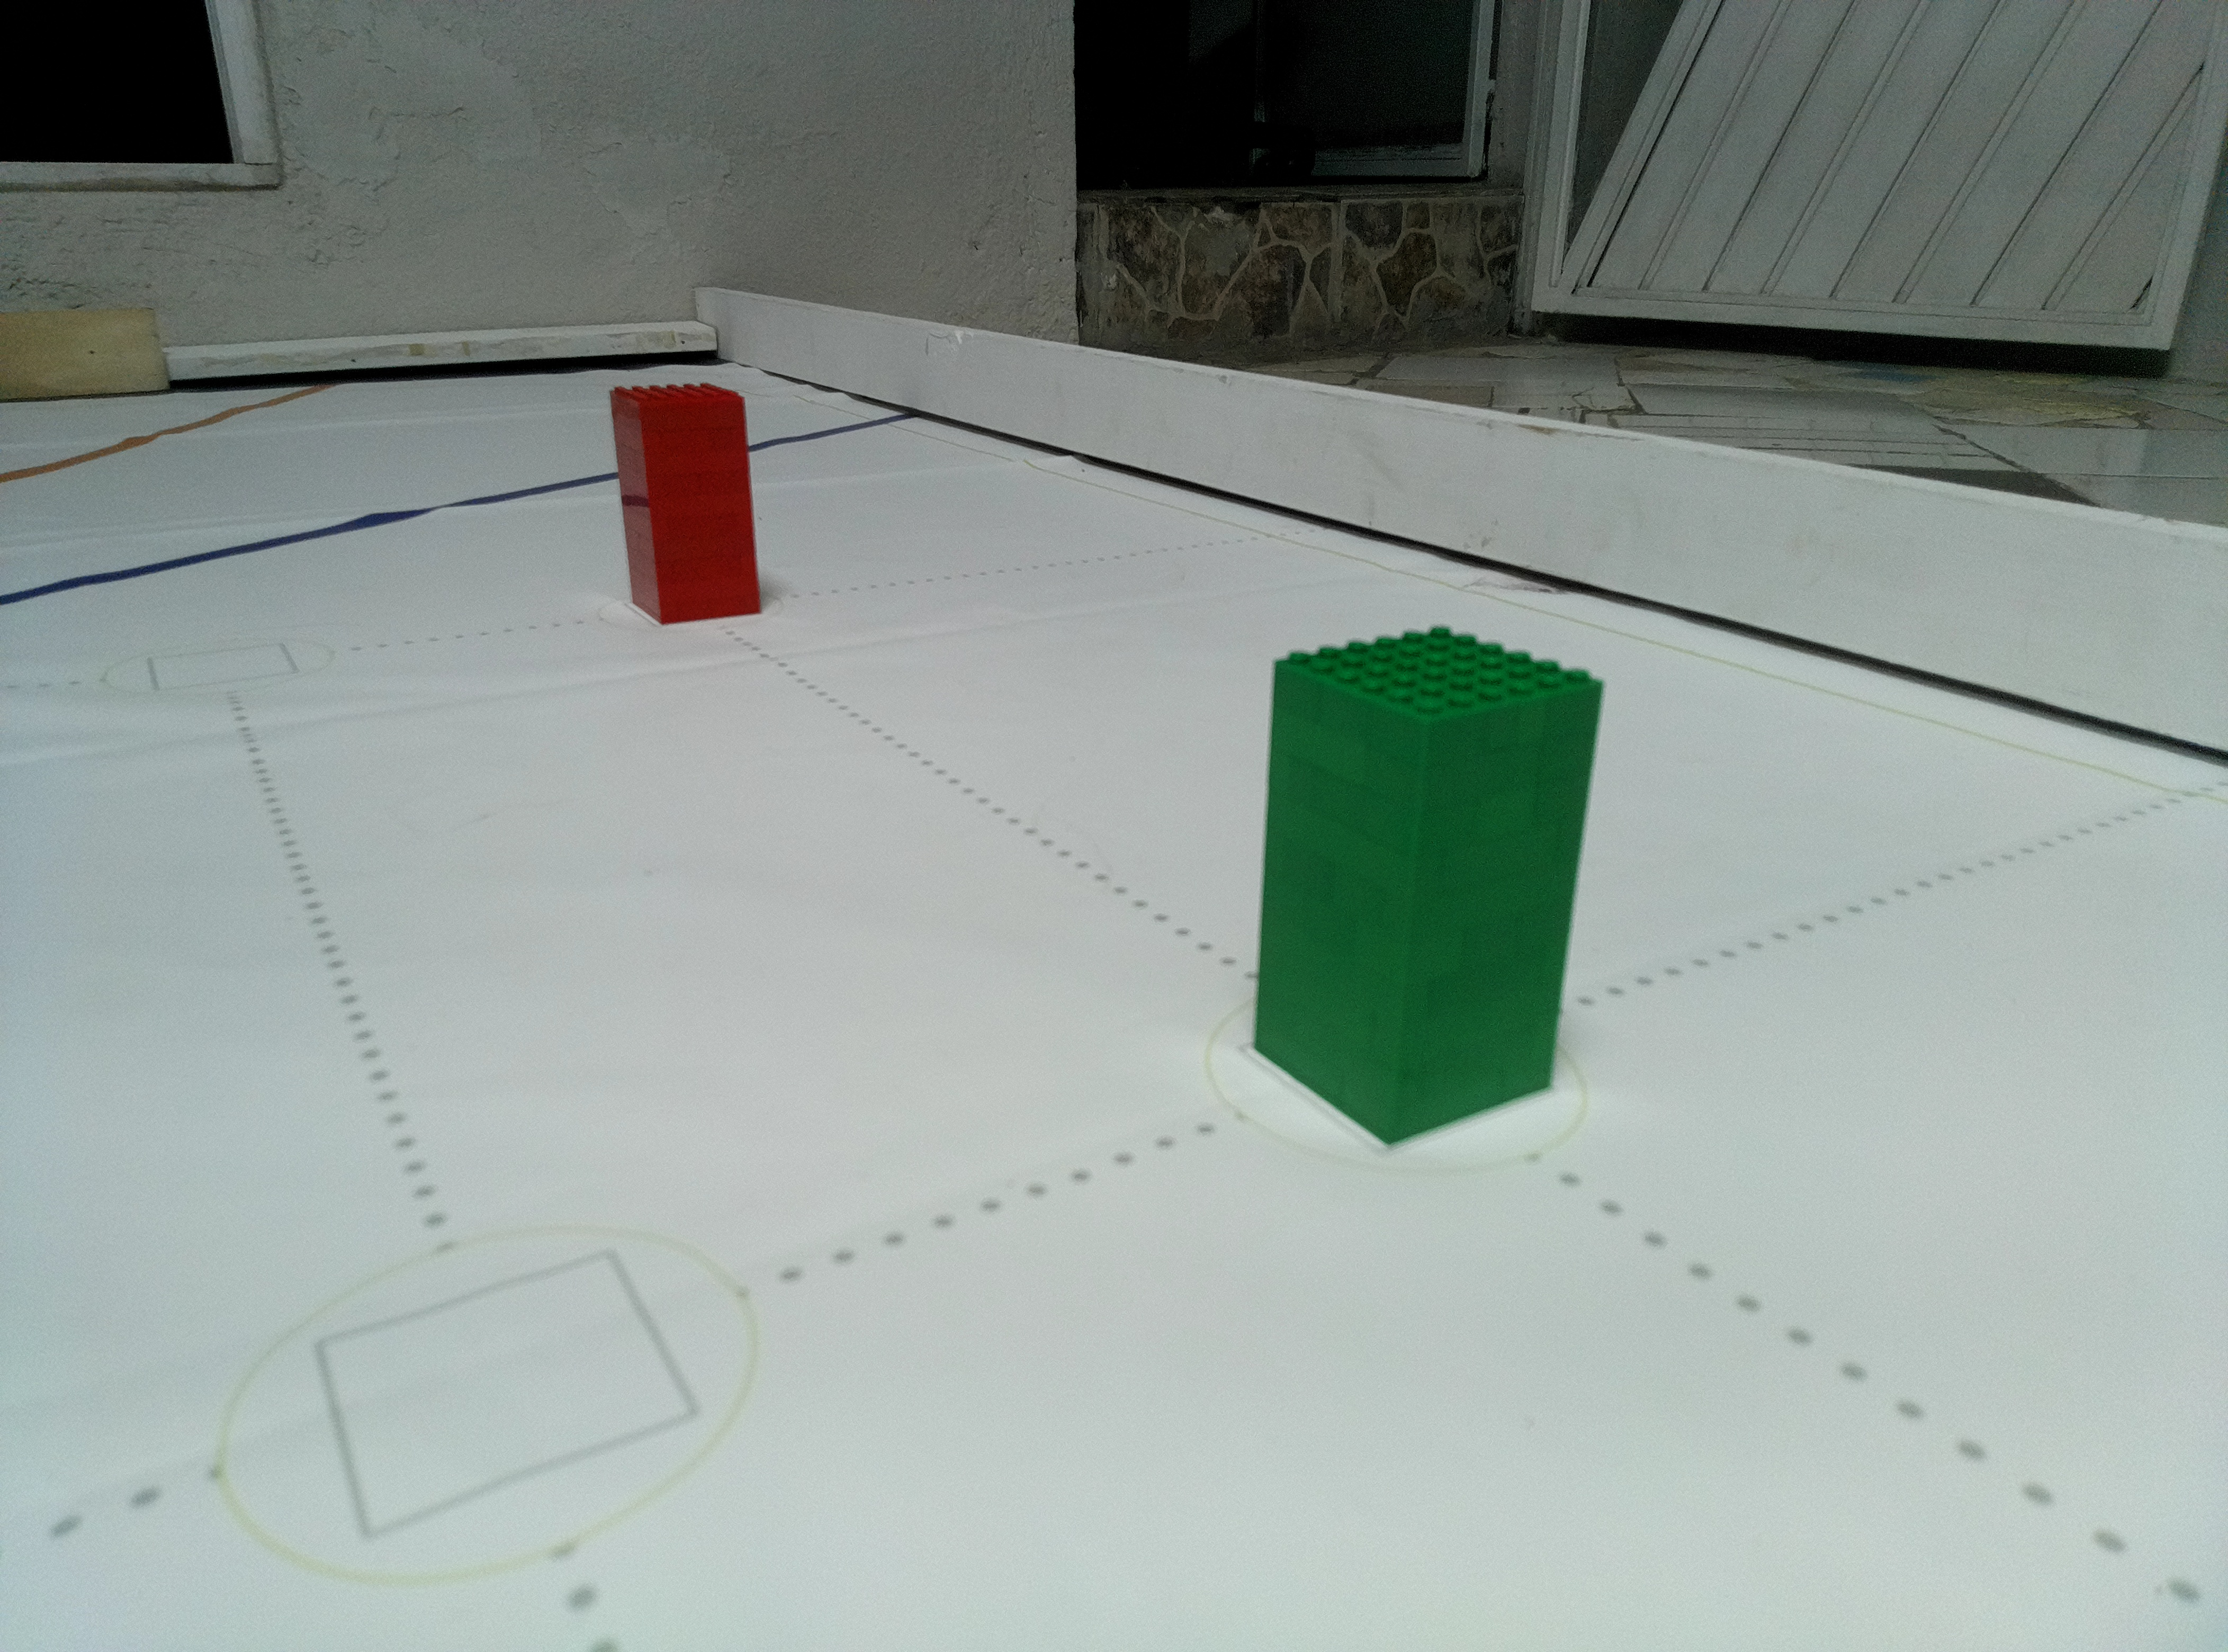greenbox: (1248, 621, 1609, 1154)
redbox: (600, 378, 769, 633)
